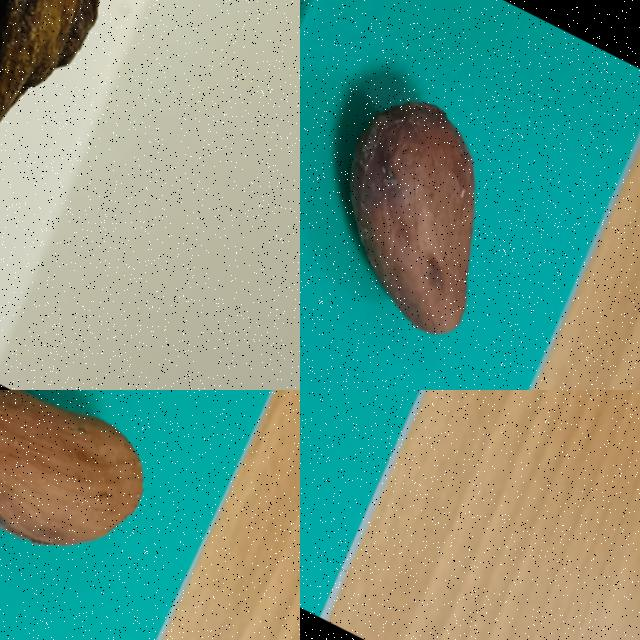Fine_cocoabeans: (300, 0, 593, 389), (0, 390, 251, 639)
Flat_cocoabeans: (0, 0, 159, 257)
